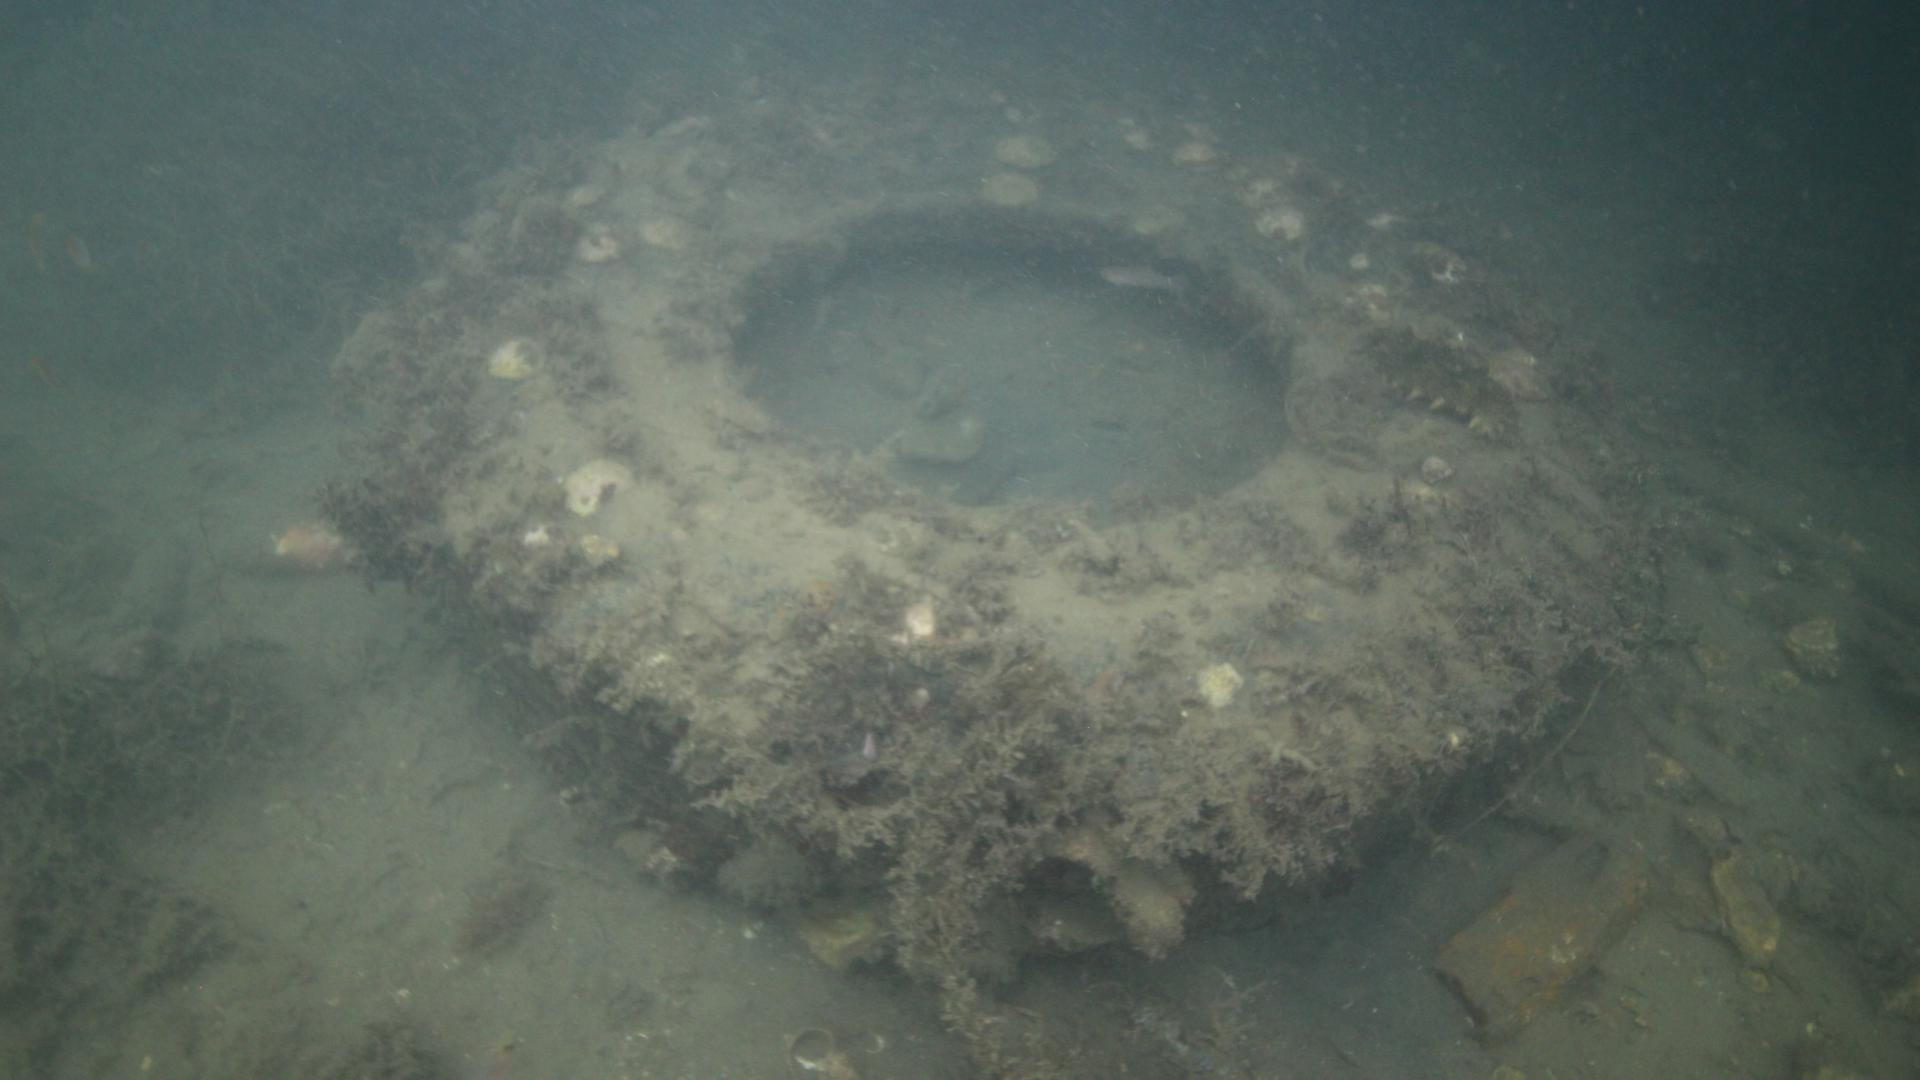tire: (435, 78, 1617, 931)
